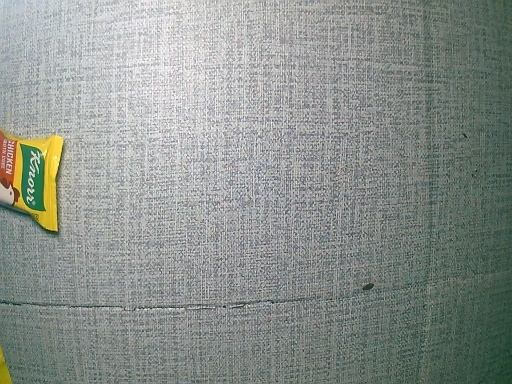plastic: (1, 131, 64, 237)
